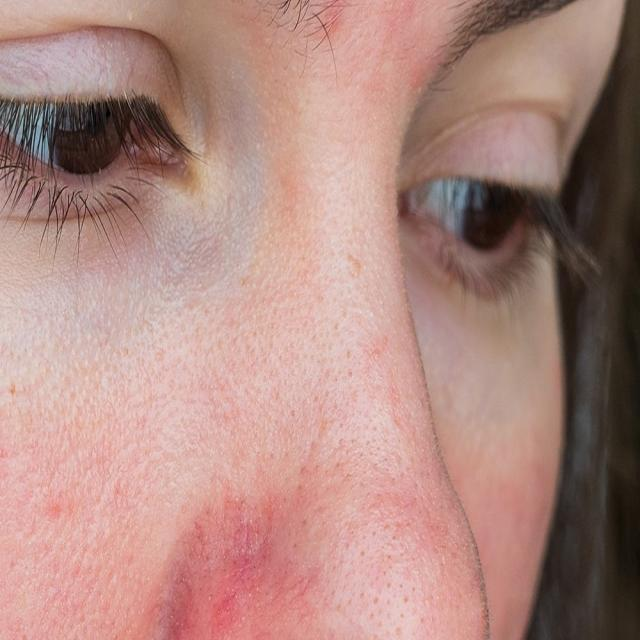Rosacea: (155, 513, 276, 633)
